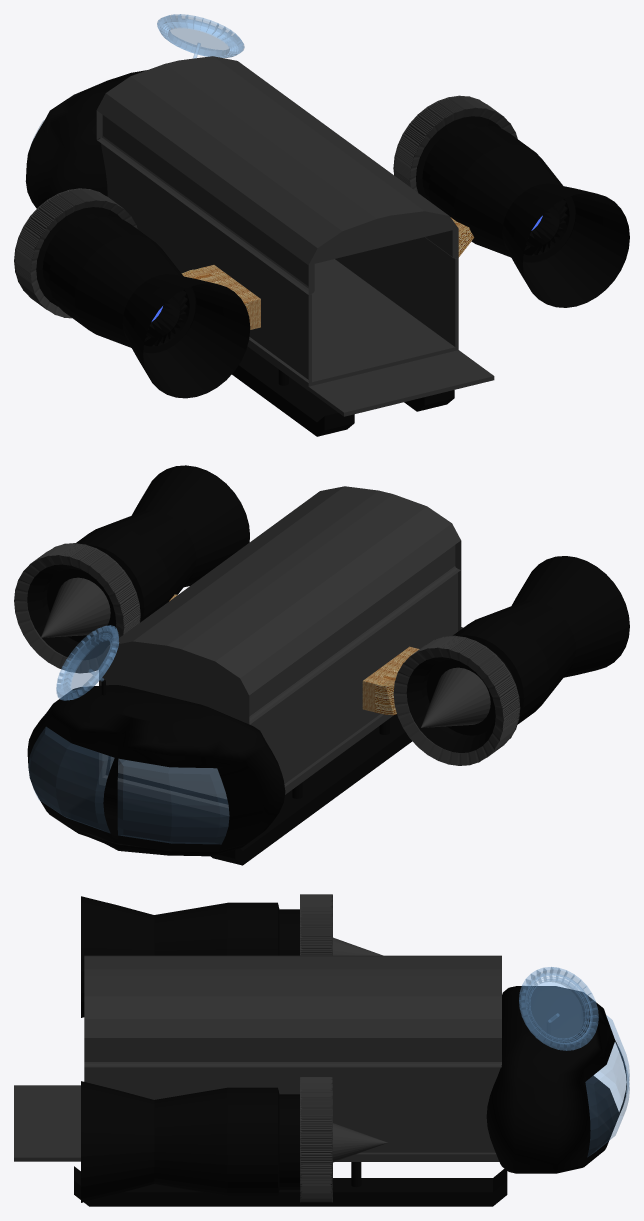
The model's file is Space_ship.glb.
3 views of the same model, one above another, from view 1: azimuth 30°, elevation 25°; view 2: azimuth 150°, elevation 25°; view 3: azimuth 270°, elevation 25° (orthographic).
Visible parts, largest first — view 1: Cube.013; view 2: Cube.013; view 3: Cube.013.
Boxes of the visible parts, x1,y1,x2,y2 form: Cube.013: (14, 14, 629, 436); Cube.013: (14, 465, 629, 865); Cube.013: (14, 894, 629, 1206).
Bounding box in the file's own units: 12.88 × 5.72 × 14.23.
Materials: 6 (1 with a texture image).
